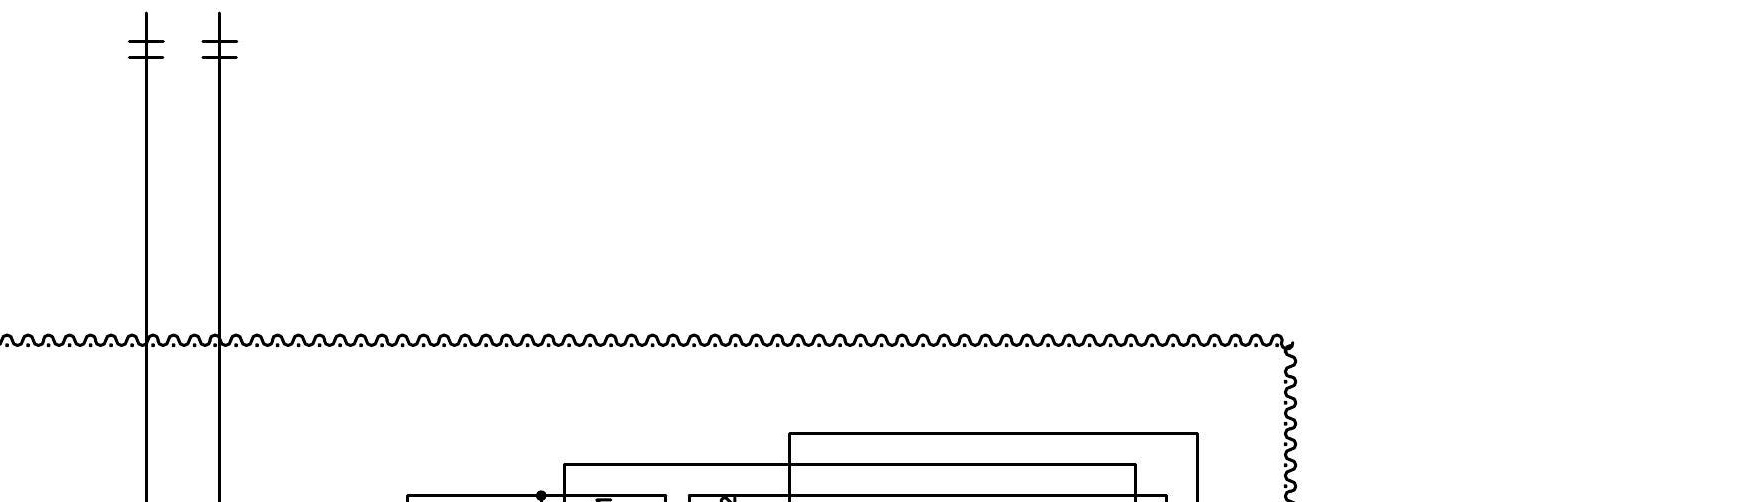115_buffer: (201, 39, 238, 59), (127, 40, 165, 59)
